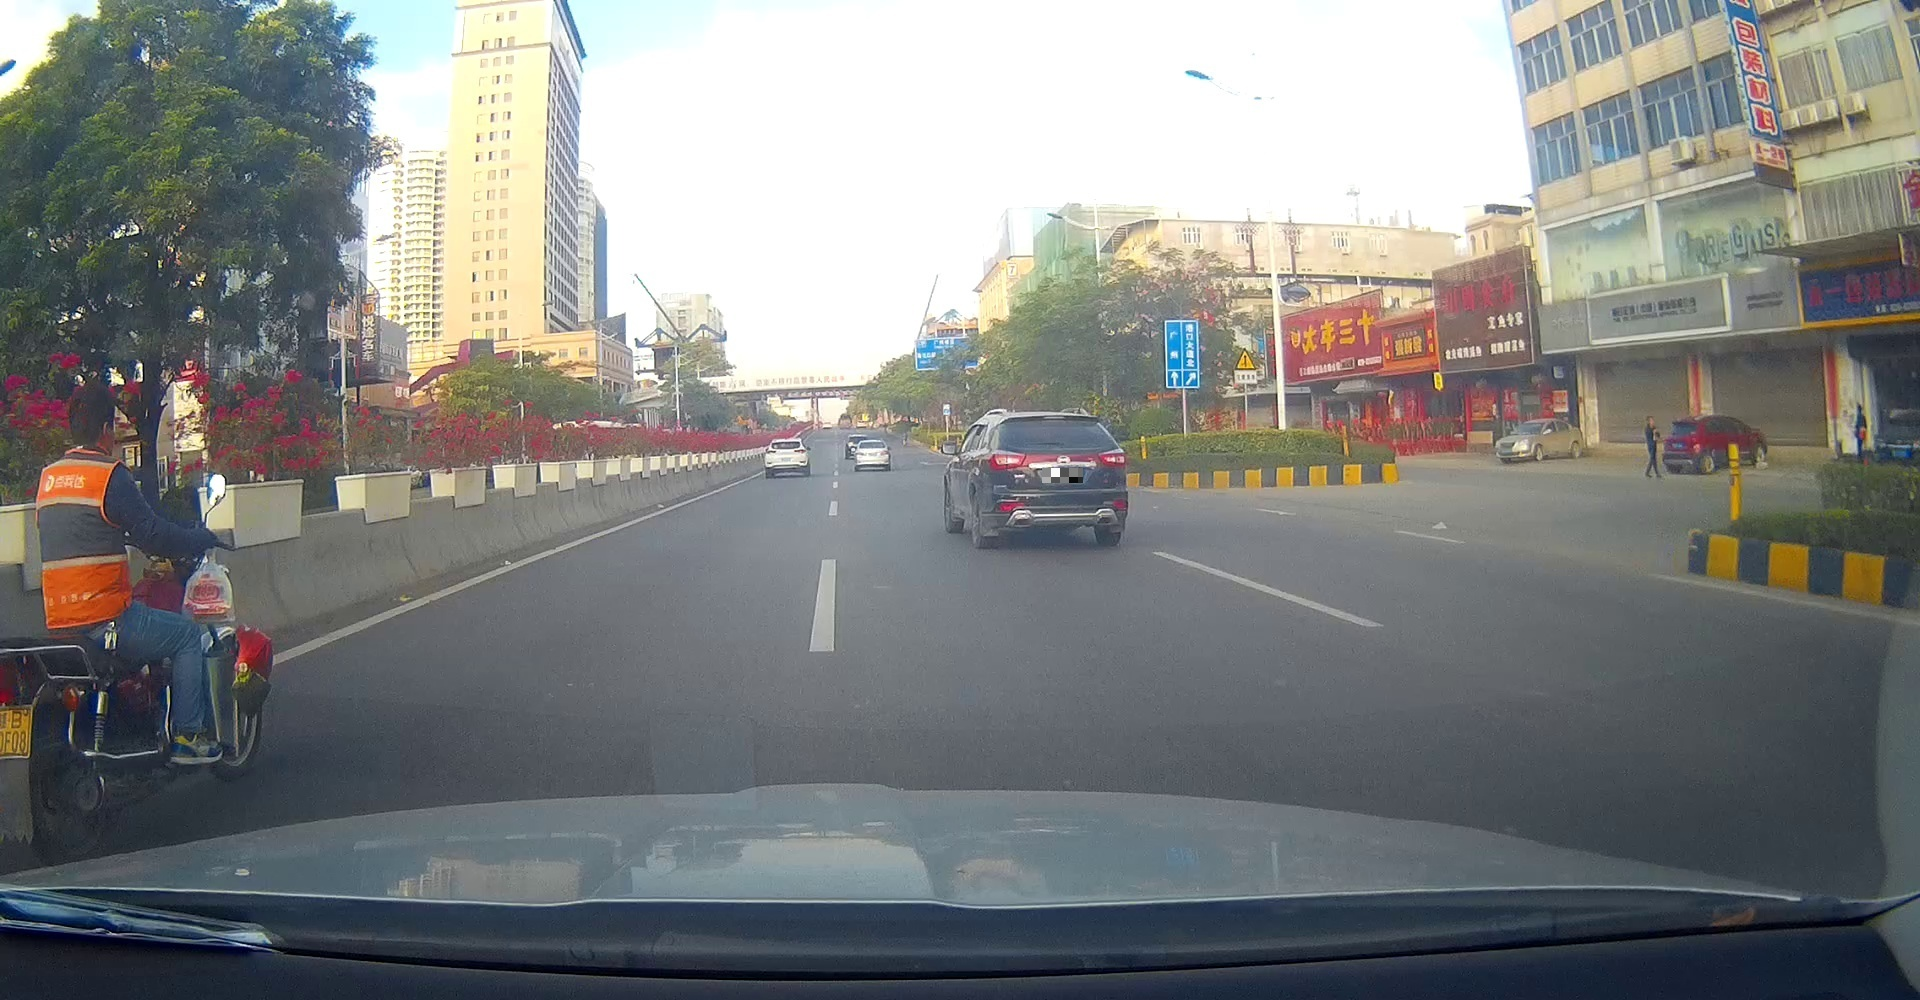L_light: (988, 451, 1025, 470), (764, 448, 776, 453), (855, 452, 863, 456)
R_light: (1098, 452, 1125, 466), (794, 449, 806, 453), (881, 451, 889, 456)
T_light: (1043, 415, 1065, 420), (782, 442, 791, 443), (870, 442, 875, 443)
day-brake: (988, 407, 1128, 546)
day-no: (764, 438, 809, 478), (855, 439, 890, 471)
plate_1: (1043, 468, 1083, 484)
